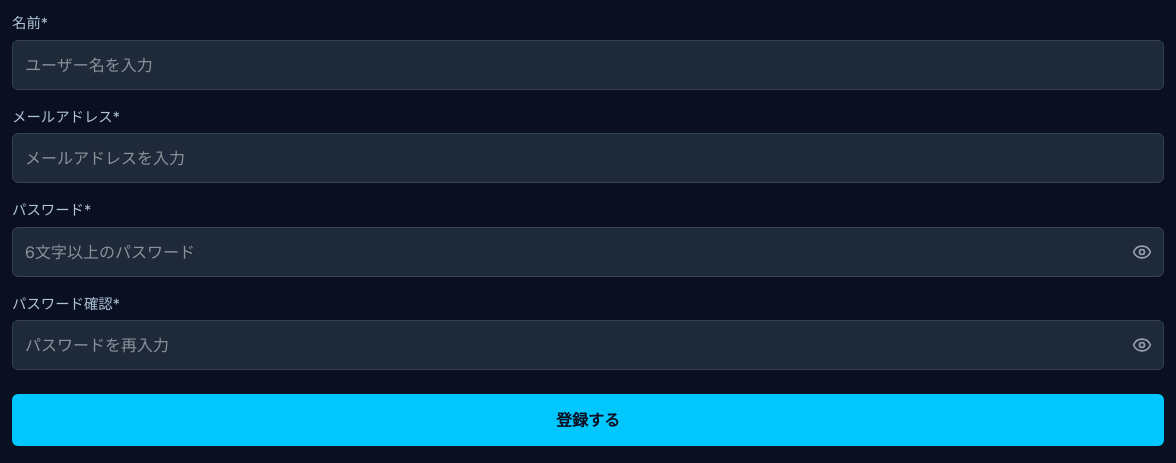
Test case: RegisterForm › Registration & 2FA Flow › should return to register input when clicking back button in OTP step
Type "Test User" into the field with placeholder "ユーザー名を入力". click: (588, 65)
box: 12,40 -> 1164,90
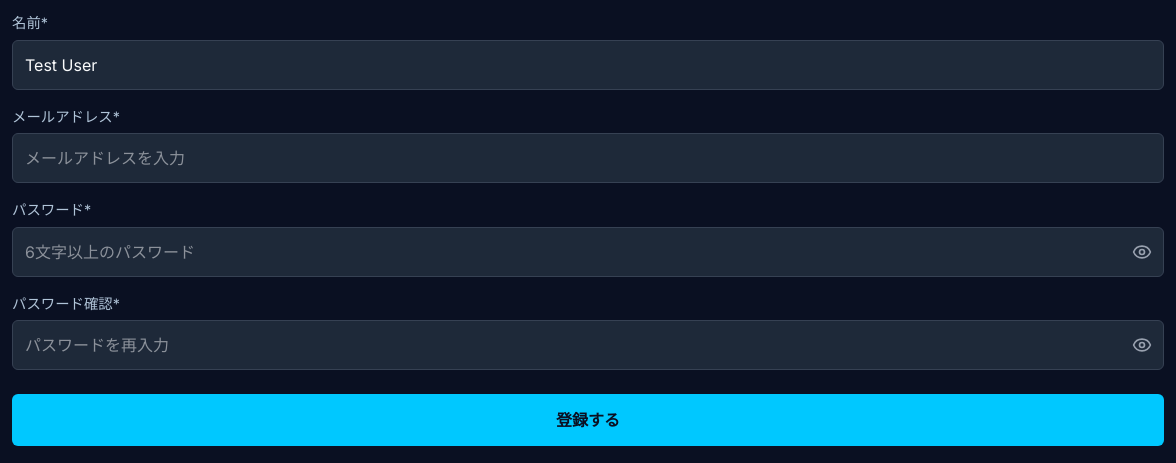
Type "test@example.com" into the field with placeholder "メールアドレスを入力". click: (588, 158)
box: 12,133 -> 1164,183
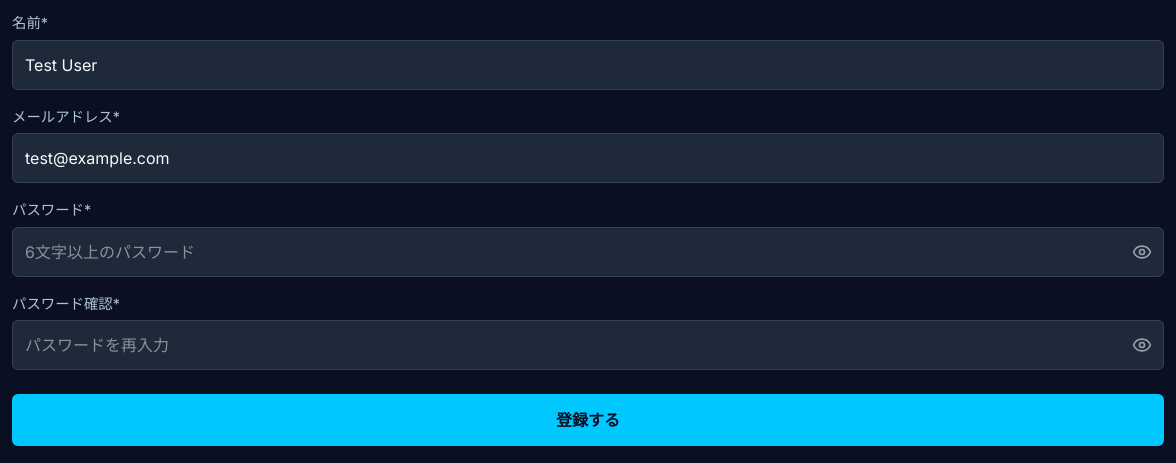
Type "password123" into the password field with placeholder "6文字以上のパスワード". click: (588, 252)
box: 12,227 -> 1164,277
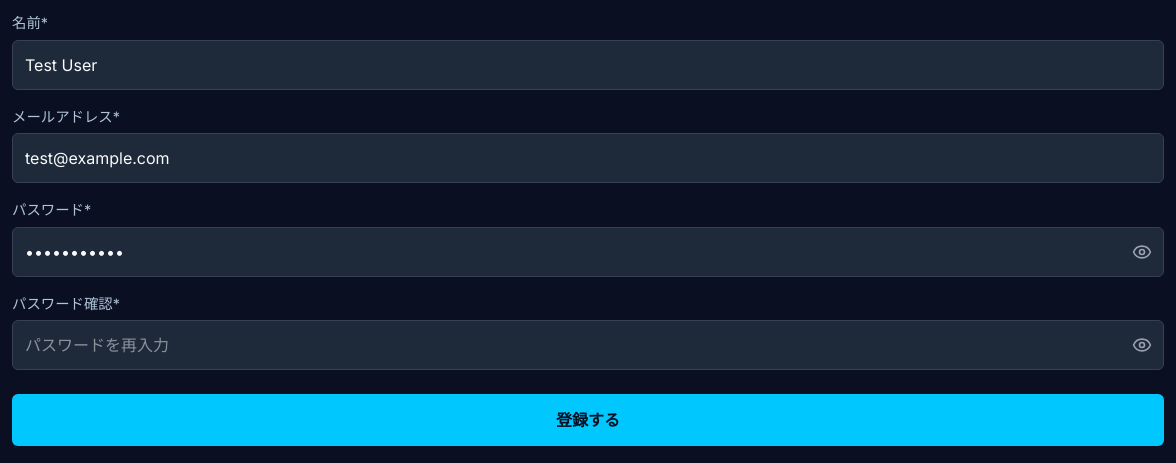
Type "password123" into the password field with placeholder "パスワードを再入力". click: (588, 345)
box: 12,320 -> 1164,370
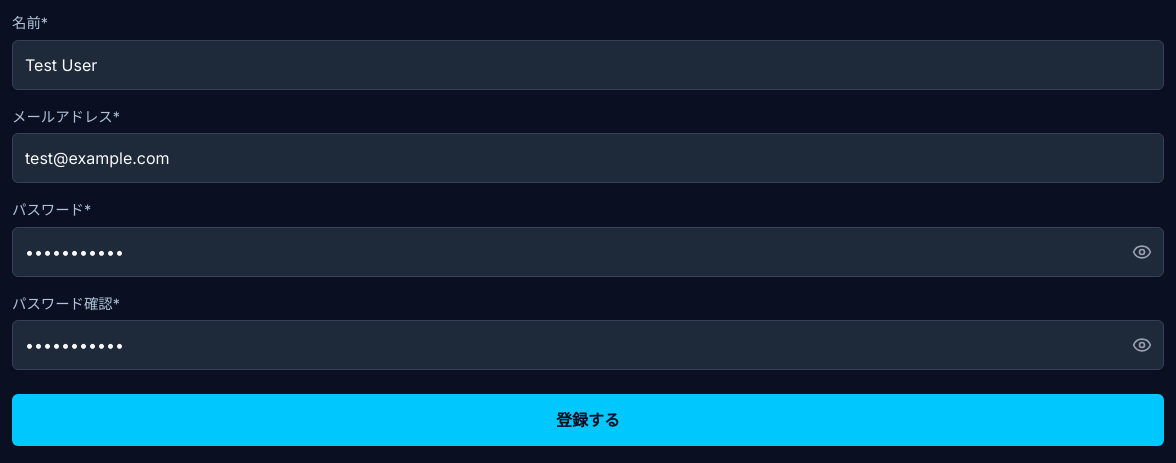
Click the button "登録する". click: (588, 420)
box: 12,394 -> 1164,446
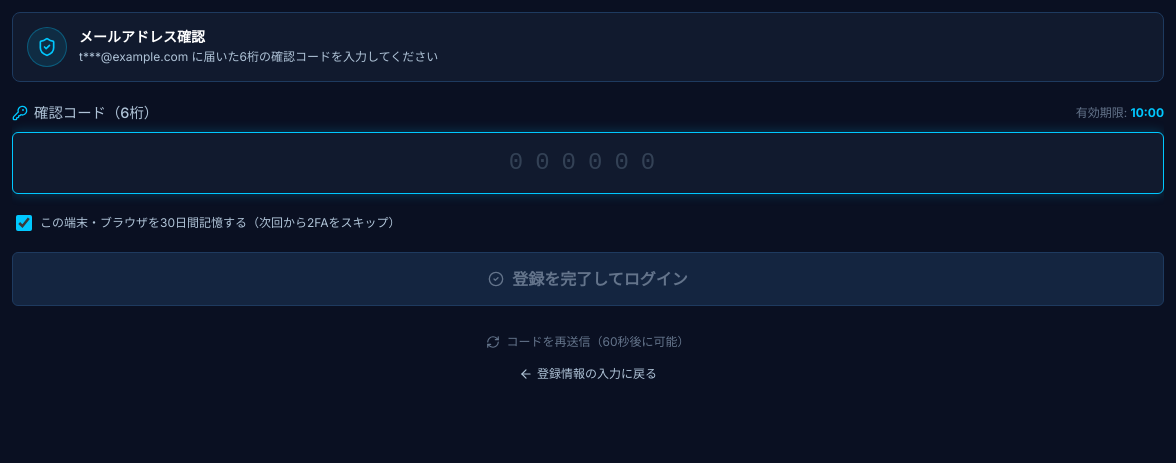
Expected: the field labelled "確認コード（6桁）" is shown, 12,132 -> 1164,194
Click the button "登録情報の入力に戻る". click: (588, 374)
box: 519,366 -> 657,382
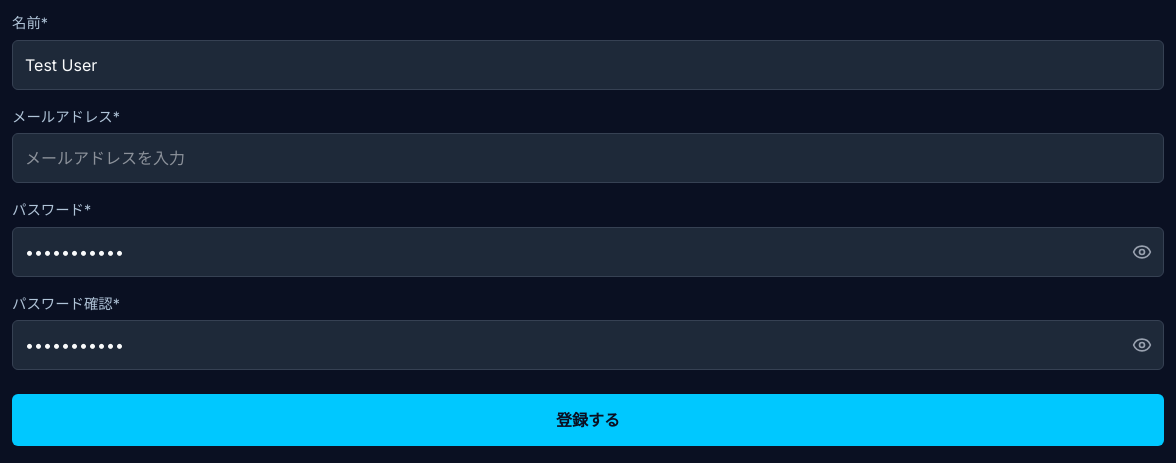
Expected: the field with placeholder "ユーザー名を入力" is shown, 12,40 -> 1164,90
Expected: the button "登録する" is shown, 12,394 -> 1164,446
